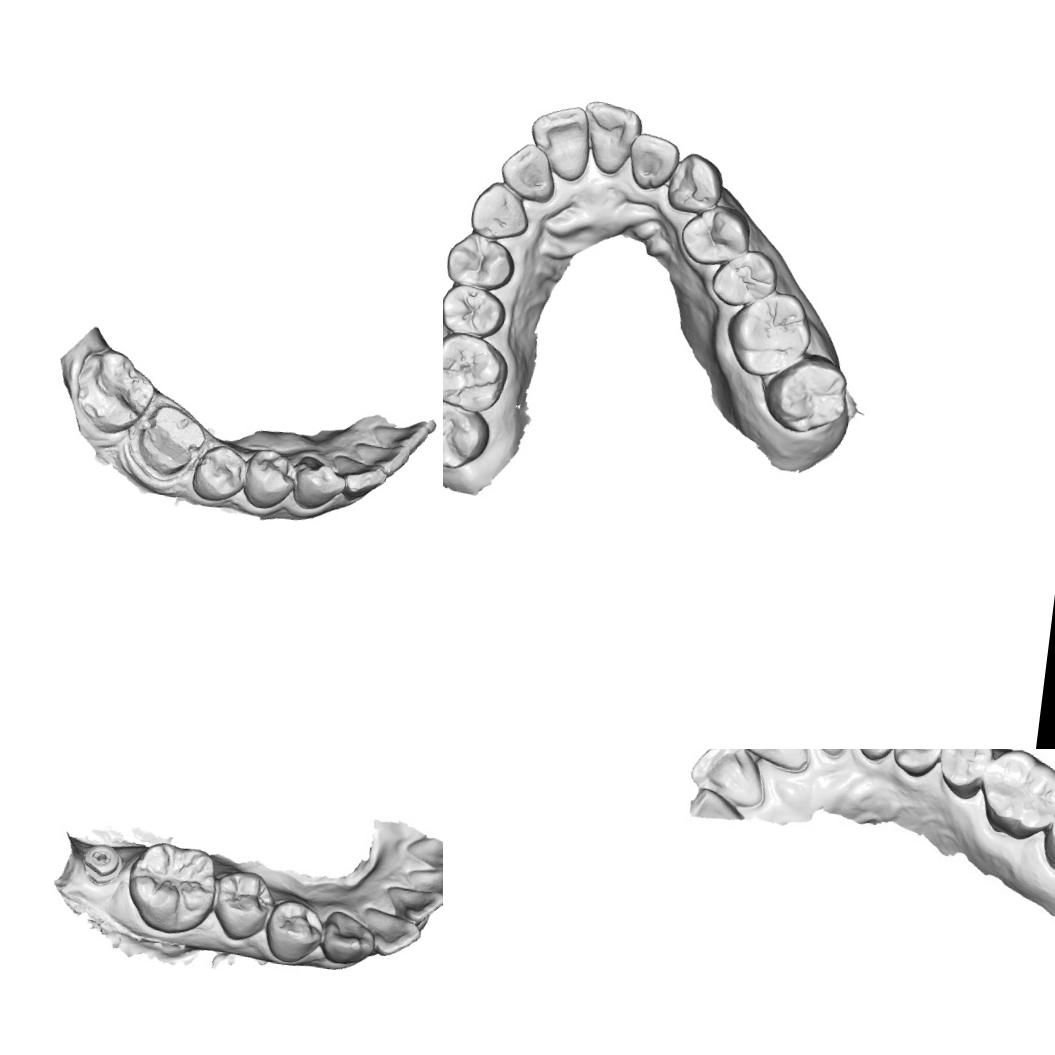canine: (466, 179, 534, 244), (664, 149, 728, 217), (317, 908, 380, 971), (288, 452, 350, 514)
crown: (127, 397, 212, 482)
implant_minus: (82, 840, 121, 881)
incisor: (524, 100, 596, 184), (577, 99, 645, 180), (690, 749, 773, 810), (497, 140, 560, 205), (358, 904, 424, 961), (625, 132, 682, 195), (381, 879, 443, 926), (331, 454, 389, 504), (368, 415, 433, 454), (352, 440, 413, 480), (402, 856, 443, 907), (736, 749, 812, 774)
molar: (121, 838, 222, 939), (721, 285, 817, 382), (68, 342, 160, 440), (758, 348, 853, 438), (973, 749, 1055, 843), (443, 328, 512, 417), (443, 393, 493, 473), (1037, 772, 1055, 878)
premolar: (677, 200, 754, 270), (210, 866, 276, 944), (708, 245, 781, 312), (444, 229, 518, 293), (260, 896, 326, 966), (187, 439, 252, 507), (238, 442, 299, 514), (443, 281, 509, 342), (931, 749, 990, 798), (885, 749, 948, 780)
